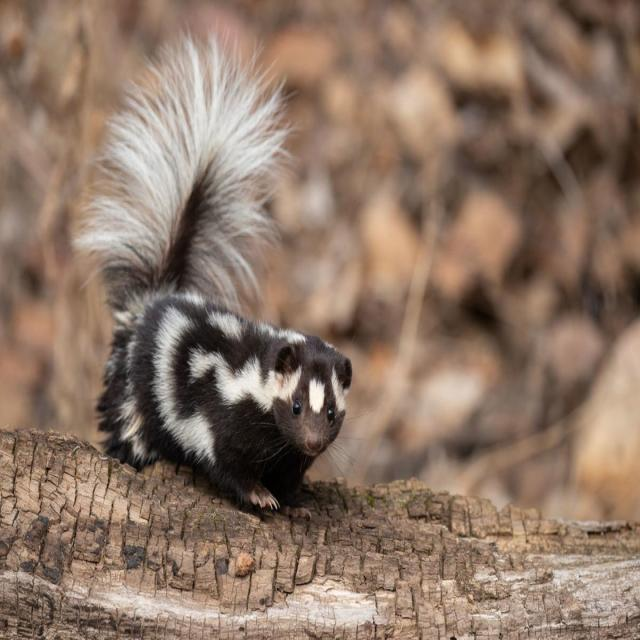Skunk: (76, 22, 366, 554)
